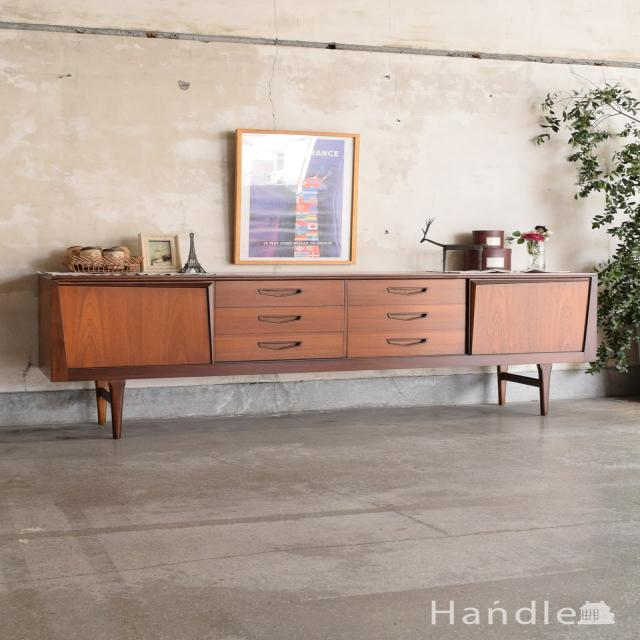vintage shelf: (37, 266, 599, 435)
